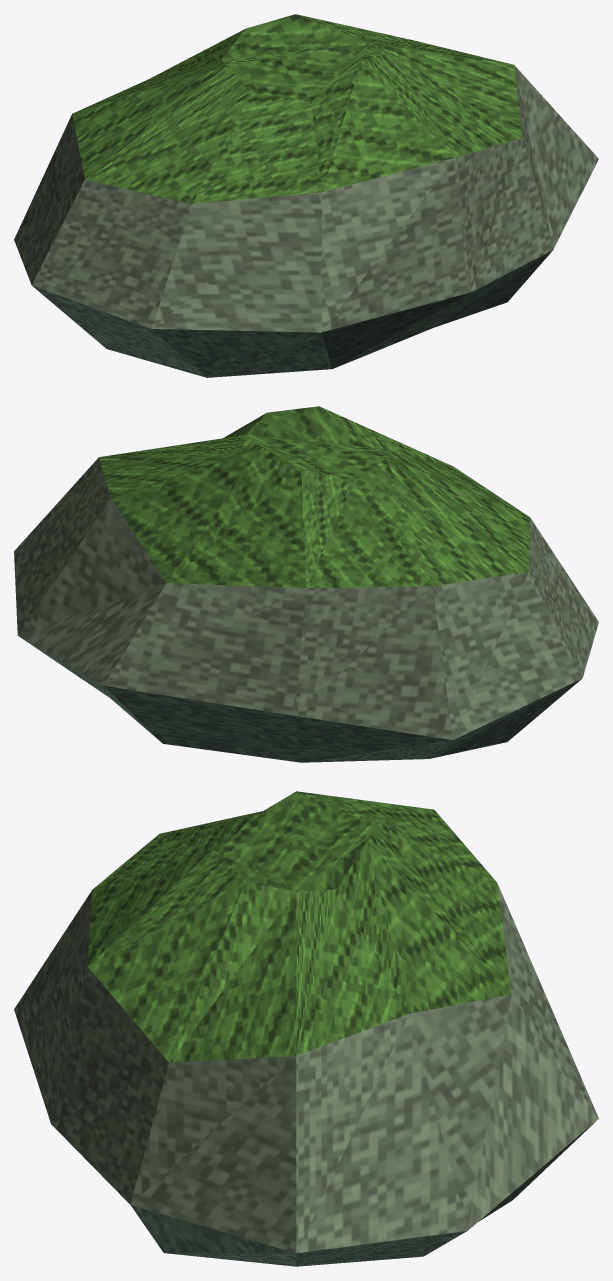
File: SM_Woodland_MossRock_B.fbx
3 views of the same model, one above another, from view 1: azimuth 30°, elevation 25°; view 2: azimuth 150°, elevation 25°; view 3: azimuth 270°, elevation 25° (orthographic). The views are drawn at different scales.
Visible parts, largest first — view 1: SM_Woodland_MossRock_B; view 2: SM_Woodland_MossRock_B; view 3: SM_Woodland_MossRock_B.
Part boxes in pixels (x1,y1,x2,y2): SM_Woodland_MossRock_B: (14, 14, 598, 377); SM_Woodland_MossRock_B: (14, 406, 598, 762); SM_Woodland_MossRock_B: (14, 791, 598, 1266).
Size of the model in its own units: 209 by 148 by 95.58.
Materials: 1 (1 with a texture image).
